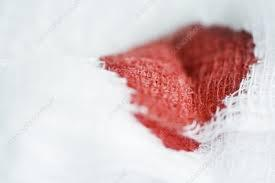cotton: (0, 0, 274, 182), (101, 25, 255, 150)
